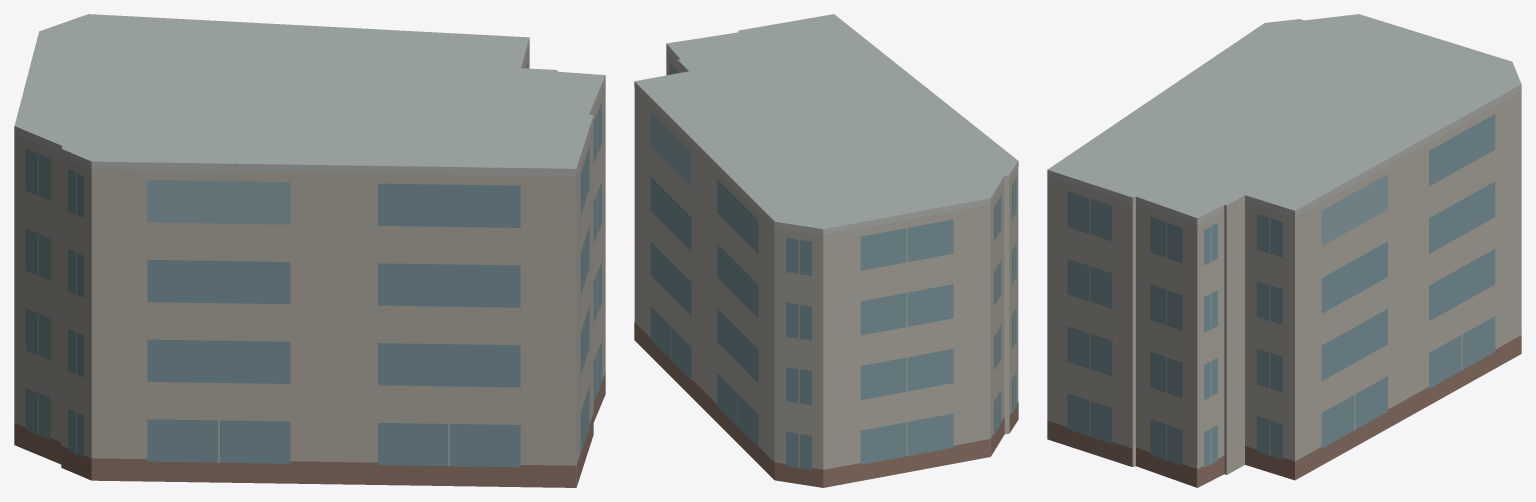
File: survey-upis-33019009.glb
3 renders of one model, left to right at view 1: azimuth 30°, elevation 25°; view 2: azimuth 150°, elevation 25°; view 3: azimuth 270°, elevation 25°, orthographic. The views are drawn at different scales.
Parts seen in each view (by area): view 1: survey-upis-33019009.tmp; view 2: survey-upis-33019009.tmp; view 3: survey-upis-33019009.tmp.
Part boxes in pixels (left/top/right/bottom): survey-upis-33019009.tmp: left=14, top=14, right=605, bottom=487; survey-upis-33019009.tmp: left=634, top=14, right=1018, bottom=487; survey-upis-33019009.tmp: left=1047, top=14, right=1521, bottom=487.
Bounding box in the file's own units: 16.91 × 10.4 × 16.59.
